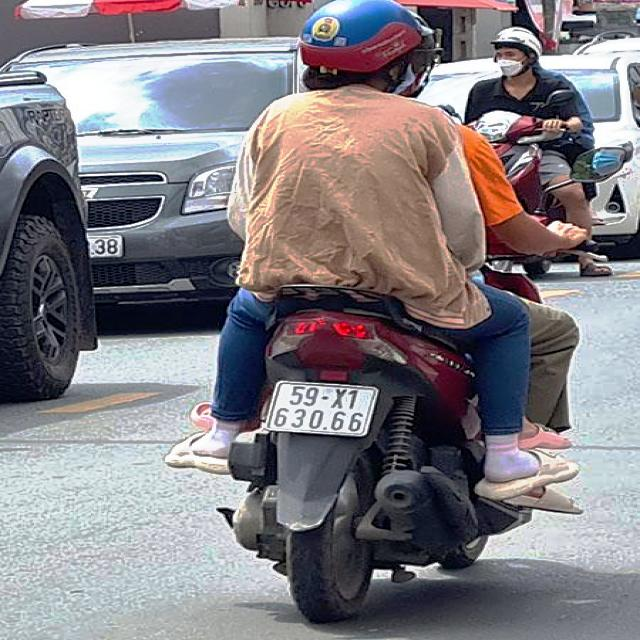license_plate: (267, 382, 380, 437)
